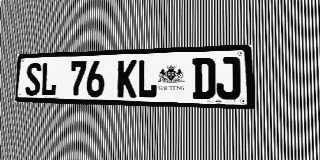6: (86, 61, 105, 97)
7: (69, 61, 87, 97)
D: (192, 57, 215, 99)
J: (216, 57, 240, 100)
K: (117, 60, 137, 98)
L: (137, 59, 157, 98), (40, 62, 57, 96)
S: (25, 62, 41, 96)
